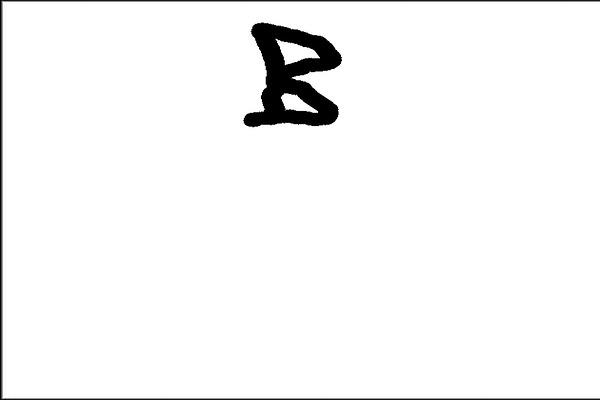B: (235, 15, 355, 143)
